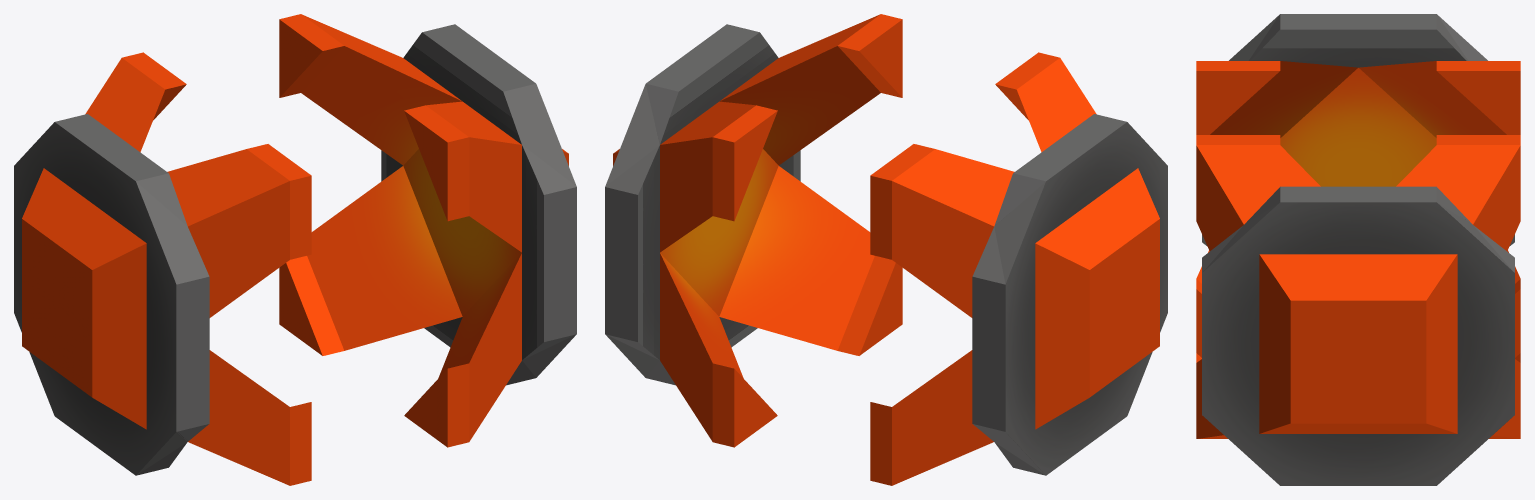
The model's file is blasterpowerup.obj.
3 views of the same model, side by side, from view 1: azimuth 30°, elevation 25°; view 2: azimuth 150°, elevation 25°; view 3: azimuth 270°, elevation 25° (orthographic). The views are drawn at different scales.
Parts seen in each view (by area): view 1: Cube; view 2: Cube; view 3: Cube.
Boxes of the visible parts, box(x1,y1,x2,y2) form: Cube: box(14, 14, 576, 485); Cube: box(605, 14, 1167, 485); Cube: box(1196, 14, 1520, 485).
Bounding box in the file's own units: 3.39 × 2.07 × 2.07.
